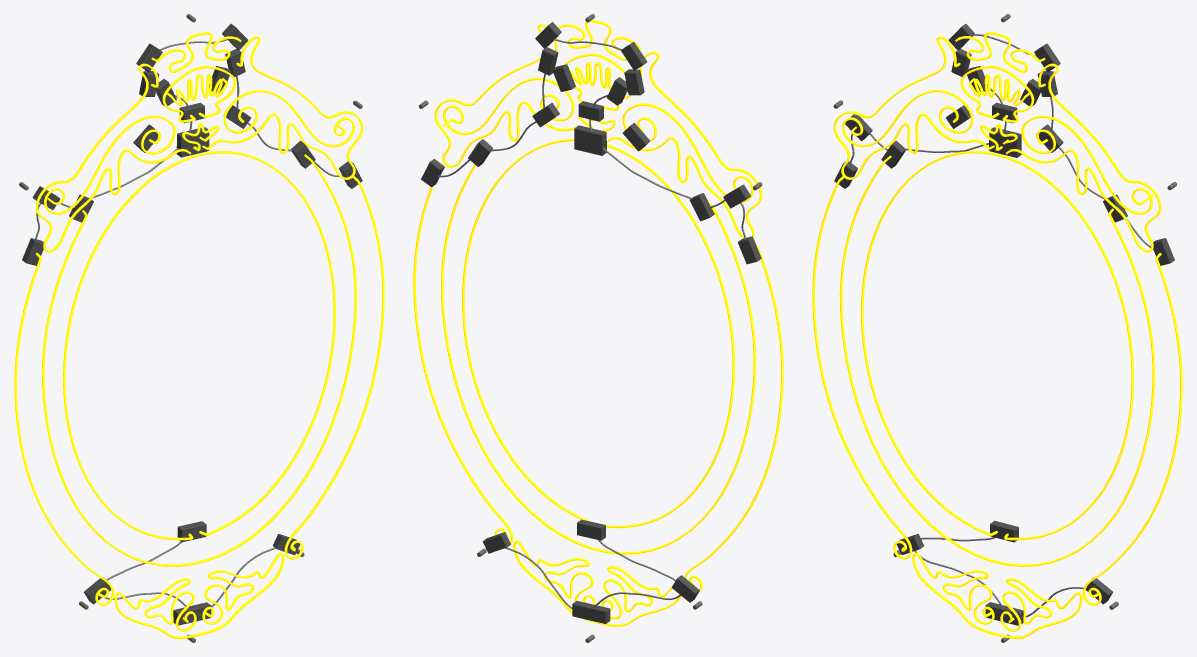
The model's file is neonFrame2.glb.
3 renders of one model, left to right at view 1: azimuth 30°, elevation 25°; view 2: azimuth 150°, elevation 25°; view 3: azimuth 330°, elevation 25°, orthographic.
Parts seen in each view (by area): view 1: Emissive, Cubes, Cable; view 2: Emissive, Cubes, Cable; view 3: Emissive, Cubes, Cable.
Part boxes in pixels (x1,y1,x2,y2): Emissive: [14, 32, 384, 638]; Cubes: [22, 23, 362, 625]; Cable: [35, 39, 343, 607]; Emissive: [413, 20, 783, 626]; Cubes: [421, 22, 761, 623]; Cable: [438, 38, 746, 608]; Emissive: [812, 32, 1182, 638]; Cubes: [834, 24, 1174, 625]; Cable: [849, 34, 1150, 617].
Bounding box in the file's own units: 0.4621 × 0.7465 × 0.0254.
